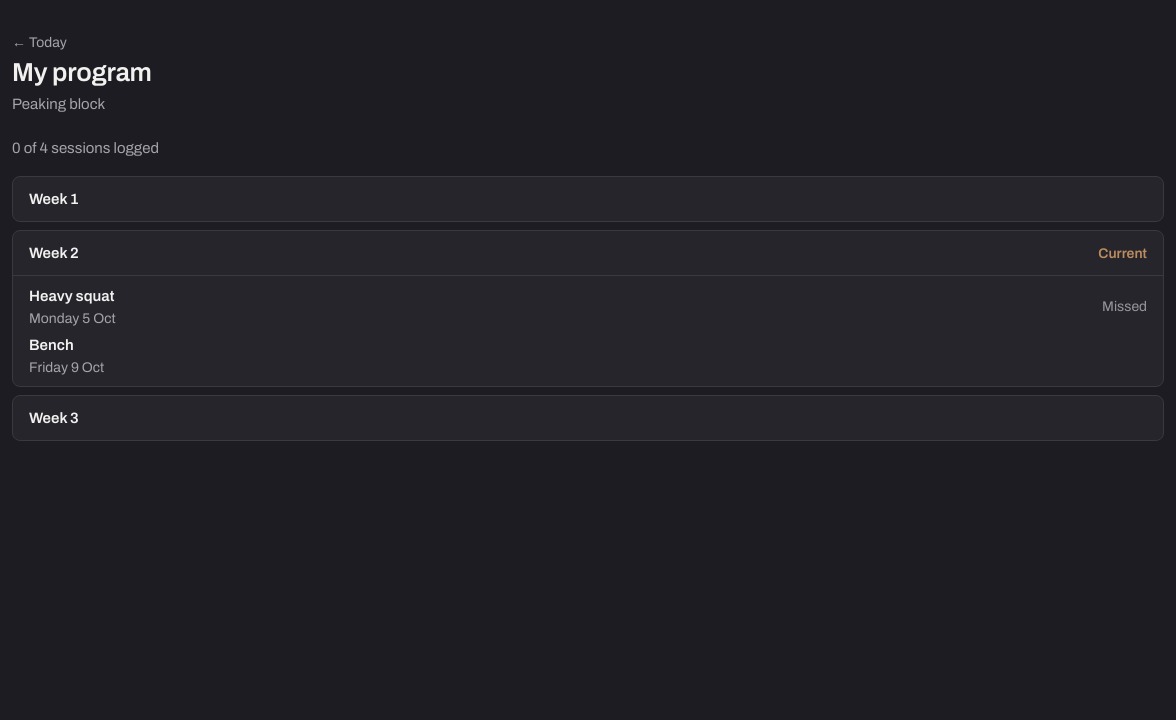
Test: My Program, with a block › says nothing was lost when a start fails
Step 1. Click the button "Bench Friday 9 Oct" → (51, 345), box top-left (21, 333), bottom-right (1155, 378)
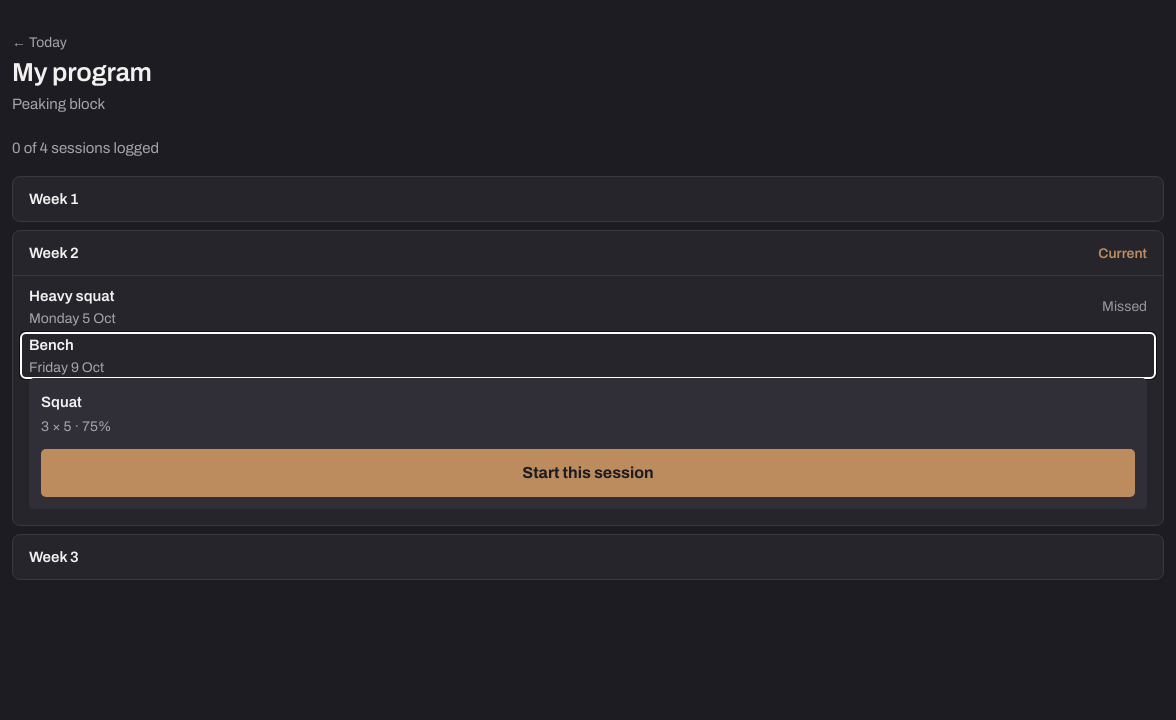
Step 2. Click the button "Start this session" → (588, 473), box top-left (41, 449), bottom-right (1135, 497)
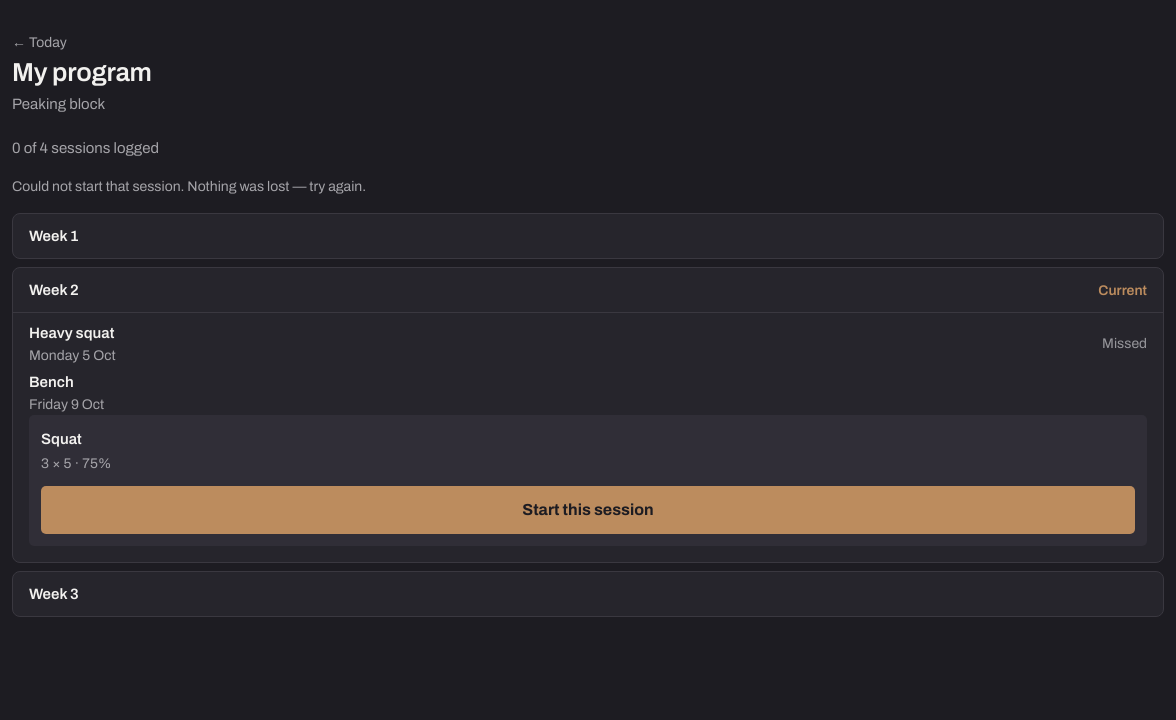
Expected: the text "Could not start that session. Nothing was lost — try again." is shown, top-left (12, 179), bottom-right (366, 194)
